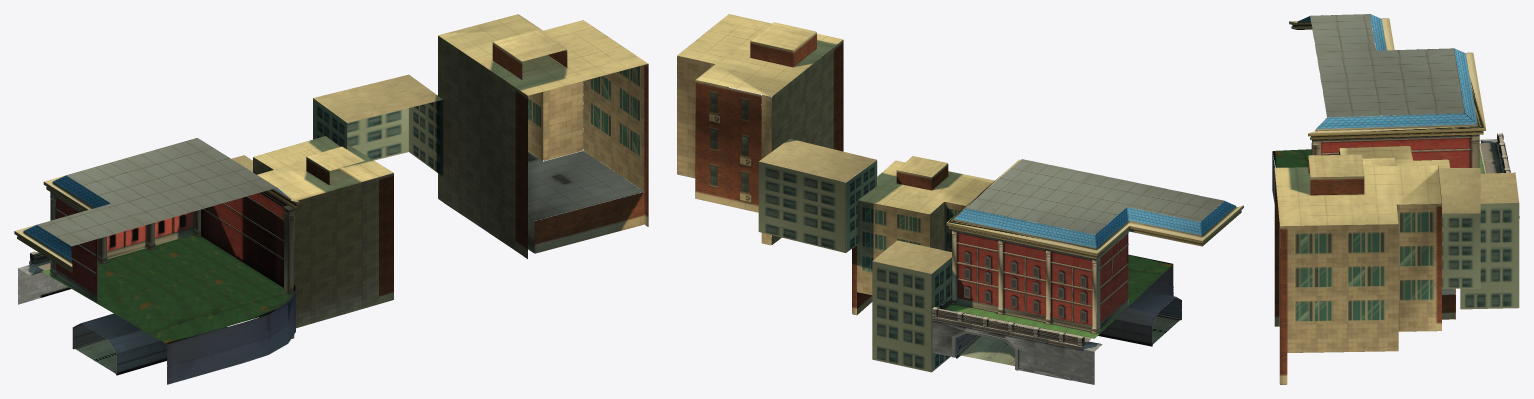
Rendered from sc_xcb_yj12_HLOD_um.fbx.
3 views of the same model, side by side, from view 1: azimuth 30°, elevation 25°; view 2: azimuth 150°, elevation 25°; view 3: azimuth 270°, elevation 25° (orthographic). The views are drawn at different scales.
Visible parts, largest first — view 1: sc_xcb_yj12_HLOD; view 2: sc_xcb_yj12_HLOD; view 3: sc_xcb_yj12_HLOD.
Boxes of the visible parts, x1,y1,x2,y2 form: sc_xcb_yj12_HLOD: (14,14,648,384); sc_xcb_yj12_HLOD: (677,14,1243,384); sc_xcb_yj12_HLOD: (1272,14,1519,384).
Size of the model in its own units: 14024 by 5566 by 5357.
